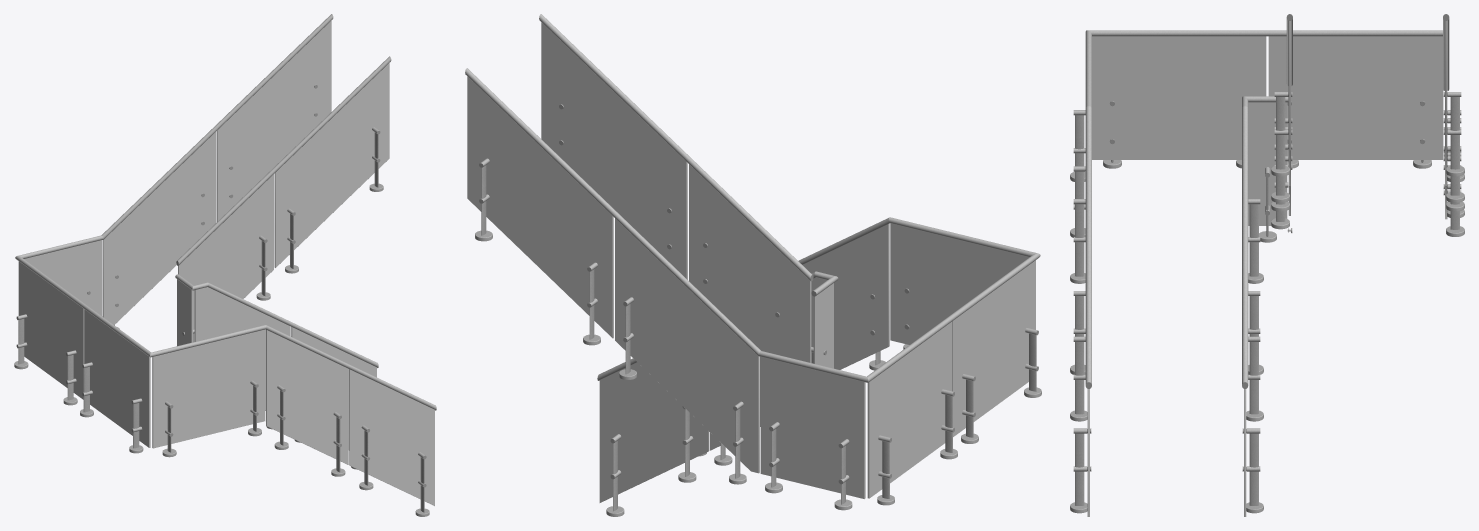
File: Switchback_Railing_Lo-Post_Elliptical.gltf
The picture shows the model from 3 angles, left to right: view 1: azimuth 30°, elevation 25°; view 2: azimuth 150°, elevation 25°; view 3: azimuth 270°, elevation 25°; orthographic projection. The views are drawn at different scales.
Parts seen in each view (by area): view 1: Infill_Glass_Raked & Horizontal Generic [8200579], Casework 1 Casework 1 [8738332], Infill_Glass_Raked & Horizontal Generic [8736296], Infill_Glass_Raked & Horizontal Generic [8739156], Infill_Glass_Raked & Horizontal Generic [8735940], Infill_Glass_Raked & Horizontal Generic [8739593], Infill_Glass_Raked & Horizontal Generic [8199751], Infill_Glass_Raked & Horizontal Generic [8739062], Infill_Glass_Raked & Horizontal Generic [8738822], Generic Models 10 Generic Models 1 [8735975], Infill_Glass_Raked & Horizontal Generic [8737682], Infill_Glass_Transition Generic [8202170] (+4 smaller); view 2: Infill_Glass_Raked & Horizontal Generic [8736296], Casework 1 Casework 1 [8738332], Infill_Glass_Raked & Horizontal Generic [8200579], Infill_Glass_Raked & Horizontal Generic [8199751], Infill_Glass_Raked & Horizontal Generic [8737682], Infill_Glass_Raked & Horizontal Generic [8739156], Infill_Glass_Raked & Horizontal Generic [8738822], Infill_Glass_Raked & Horizontal Generic [8202939], Infill_Glass_Raked & Horizontal Generic [8739062], Infill_Glass_Raked & Horizontal Generic [8739593], Generic Models 10 Generic Models 1 [8735975], Generic Models 2 Generic Models 2 [8568681] (+1 smaller); view 3: Infill_Glass_Raked & Horizontal Generic [8739062], Infill_Glass_Raked & Horizontal Generic [8738822], Generic Models 10 Generic Models 1 [8735975], Infill_Glass_Raked & Horizontal Generic [8201308], Generic Models 1 Generic Models 1 [8568048], LS201 & LS202 - Konic Post Material LS Material [9048834], LS201 & LS202 - Konic Post Material LS Material [9048652], LS201 & LS202 - Konic Post Material LS Material [9048890], LS201 & LS202 - Konic Post Material LS Material [9048819], LS201 & LS202 - Konic Post Material LS Material [9048587], LS201 & LS202 - Konic Post Material LS Material [9048501], LS201 & LS202 - Konic Post Material LS Material [9048829] (+4 smaller).
Part boxes in pixels (<box>): Infill_Glass_Raked & Horizontal Generic [8200579]: <box>274,63,389,267</box>; Casework 1 Casework 1 [8738332]: <box>102,132,215,324</box>; Infill_Glass_Raked & Horizontal Generic [8736296]: <box>216,20,331,222</box>; Infill_Glass_Raked & Horizontal Generic [8739156]: <box>152,329,265,448</box>; Infill_Glass_Raked & Horizontal Generic [8735940]: <box>349,369,434,505</box>; Infill_Glass_Raked & Horizontal Generic [8739593]: <box>266,329,348,464</box>; Infill_Glass_Raked & Horizontal Generic [8199751]: <box>178,174,273,341</box>; Infill_Glass_Raked & Horizontal Generic [8739062]: <box>84,309,150,447</box>; Infill_Glass_Raked & Horizontal Generic [8738822]: <box>18,261,84,399</box>; Generic Models 10 Generic Models 1 [8735975]: <box>15,14,436,410</box>; Infill_Glass_Raked & Horizontal Generic [8737682]: <box>24,240,101,315</box>; Infill_Glass_Transition Generic [8202170]: <box>194,287,290,410</box>; Infill_Glass_Raked & Horizontal Generic [8736296]: <box>467,76,613,338</box>; Casework 1 Casework 1 [8738332]: <box>615,218,759,473</box>; Infill_Glass_Raked & Horizontal Generic [8200579]: <box>541,22,687,279</box>; Infill_Glass_Raked & Horizontal Generic [8199751]: <box>689,164,811,362</box>; Infill_Glass_Raked & Horizontal Generic [8737682]: <box>760,357,865,498</box>; Infill_Glass_Raked & Horizontal Generic [8739156]: <box>890,223,1028,344</box>; Infill_Glass_Raked & Horizontal Generic [8738822]: <box>867,321,952,498</box>; Infill_Glass_Raked & Horizontal Generic [8202939]: <box>599,362,709,502</box>; Infill_Glass_Raked & Horizontal Generic [8739062]: <box>952,260,1035,436</box>; Infill_Glass_Raked & Horizontal Generic [8739593]: <box>802,223,889,369</box>; Generic Models 10 Generic Models 1 [8735975]: <box>465,68,1040,382</box>; Generic Models 2 Generic Models 2 [8568681]: <box>539,14,813,281</box>; Infill_Glass_Raked & Horizontal Generic [8739062]: <box>1092,36,1266,159</box>; Infill_Glass_Raked & Horizontal Generic [8738822]: <box>1268,36,1443,159</box>; Generic Models 10 Generic Models 1 [8735975]: <box>1085,14,1449,388</box>; Infill_Glass_Raked & Horizontal Generic [8201308]: <box>1248,102,1287,225</box>; Generic Models 1 Generic Models 1 [8568048]: <box>1242,96,1288,388</box>; LS201 & LS202 - Konic Post Material LS Material [9048834]: <box>1075,433,1084,505</box>; LS201 & LS202 - Konic Post Material LS Material [9048652]: <box>1249,433,1258,505</box>; LS201 & LS202 - Konic Post Material LS Material [9048890]: <box>1450,97,1459,169</box>; LS201 & LS202 - Konic Post Material LS Material [9048819]: <box>1075,204,1084,276</box>; LS201 & LS202 - Konic Post Material LS Material [9048587]: <box>1276,97,1285,169</box>; LS201 & LS202 - Konic Post Material LS Material [9048501]: <box>1249,204,1258,276</box>; LS201 & LS202 - Konic Post Material LS Material [9048829]: <box>1075,342,1084,414</box>.
Size of the model in its own units: 3.08 by 3.51 by 2.39.
4 materials, 2 textured.
